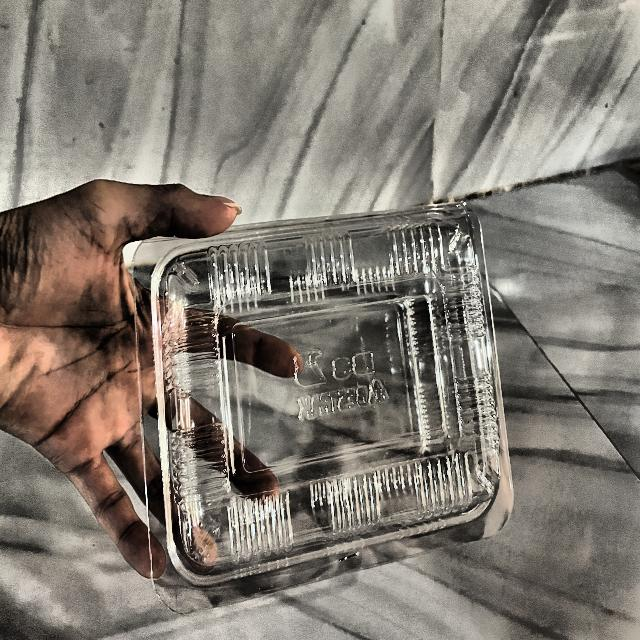plastic container: (114, 200, 499, 601)
